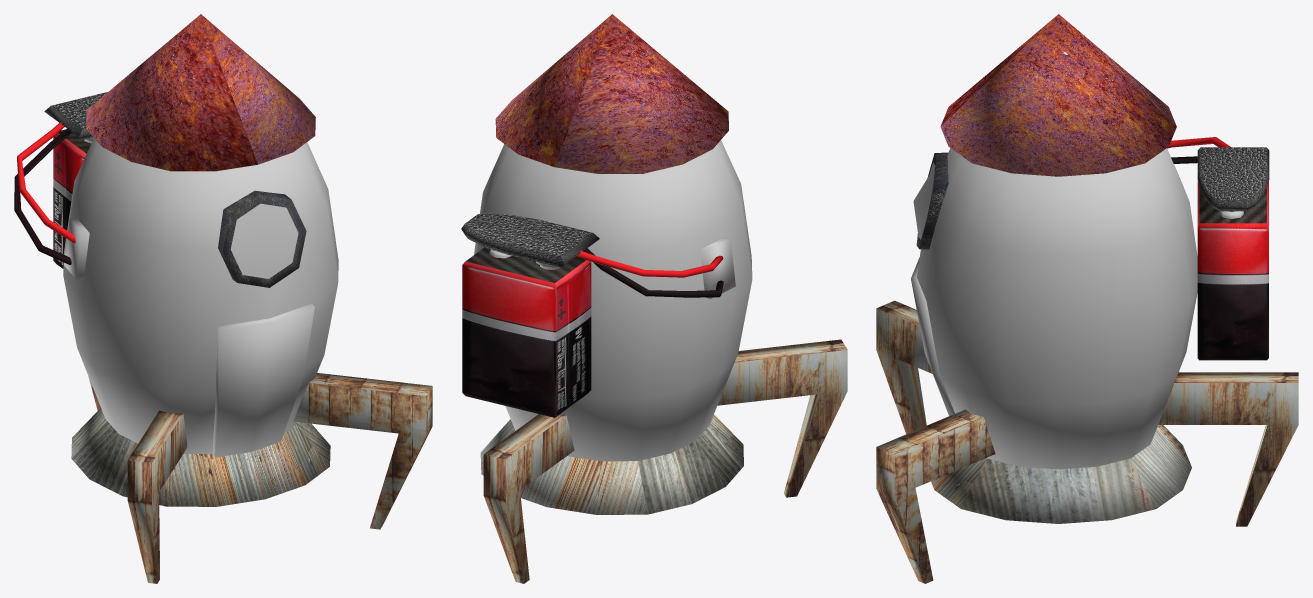
The model's file is ship.fbx.
The picture shows the model from 3 angles, left to right: view 1: azimuth 30°, elevation 25°; view 2: azimuth 150°, elevation 25°; view 3: azimuth 270°, elevation 25°; orthographic projection. The views are drawn at different scales.
Visible parts, largest first — view 1: Plane, Plane.001, Plane.002, Cube.003, Plane.003, Cube.004, Cube.001, Cube.002, Plane.010, Plane.011, Cube.005; view 2: Plane, Plane.001, Cube.001, Plane.002, Cube.004, Cube, Cube.002, Cube.005, Plane.011, Plane.010; view 3: Plane, Plane.001, Plane.002, Cube.001, Cube, Cube.003, Cube.004, Cube.002, Plane.003.
Boxes of the visible parts, x1,y1,x2,y2 form: Plane: [63, 138, 338, 457]; Plane.001: [86, 14, 315, 171]; Plane.002: [71, 408, 330, 506]; Cube.003: [293, 373, 432, 529]; Plane.003: [218, 190, 306, 287]; Cube.004: [127, 410, 187, 583]; Cube.001: [53, 129, 90, 268]; Cube.002: [44, 92, 107, 139]; Plane.010: [14, 128, 72, 264]; Plane.011: [17, 122, 75, 243]; Cube.005: [63, 218, 89, 279]; Plane: [474, 140, 752, 461]; Plane.001: [495, 14, 728, 173]; Cube.001: [462, 247, 591, 417]; Plane.002: [480, 414, 743, 514]; Cube.004: [717, 339, 847, 497]; Cube: [483, 414, 574, 583]; Cube.002: [461, 213, 599, 267]; Cube.005: [700, 237, 735, 298]; Plane.011: [576, 251, 723, 277]; Plane.010: [583, 248, 723, 297]; Plane: [911, 148, 1197, 469]; Plane.001: [940, 14, 1176, 176]; Plane.002: [931, 425, 1191, 523]; Cube.001: [1197, 181, 1268, 360]; Cube: [1158, 372, 1298, 526]; Cube.003: [876, 409, 995, 583]; Cube.004: [876, 300, 932, 433]; Cube.002: [1197, 147, 1269, 211]; Plane.003: [913, 152, 948, 249].
Bounding box in the file's own units: 339 × 524 × 393.
